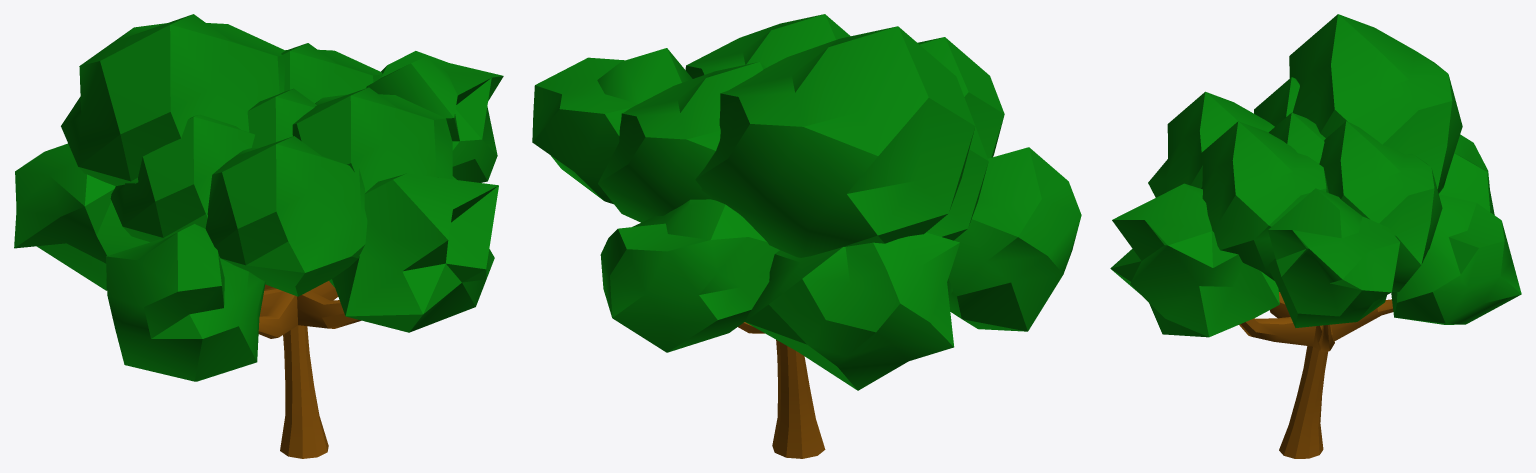
File: tree5.fbx
The picture shows the model from 3 angles, left to right: view 1: azimuth 30°, elevation 25°; view 2: azimuth 150°, elevation 25°; view 3: azimuth 270°, elevation 25°; orthographic projection. The views are drawn at different scales.
Visible parts, largest first — view 1: Cylinder.003; view 2: Cylinder.003; view 3: Cylinder.003.
Part boxes in pixels (box(x1,y1,x2,y2)): Cylinder.003: box(14, 14, 503, 458); Cylinder.003: box(532, 14, 1081, 458); Cylinder.003: box(1110, 14, 1521, 458).
Bounding box in the file's own units: 2325 × 2197 × 2118.
Materials: 1 (1 with a texture image).
